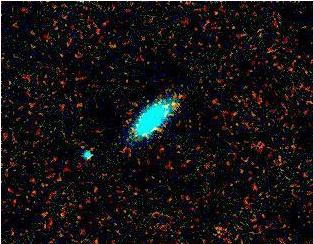star: (158, 88, 188, 118)
